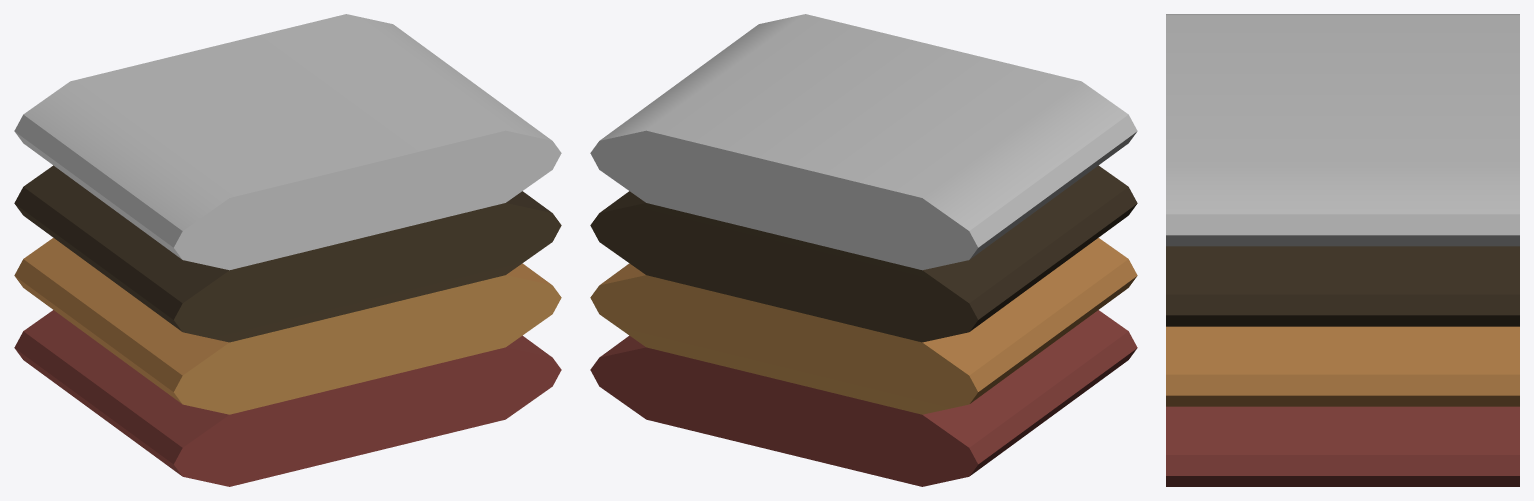
File: Cloth2.fbx
3 views of the same model, side by side, from view 1: azimuth 30°, elevation 25°; view 2: azimuth 150°, elevation 25°; view 3: azimuth 270°, elevation 25° (orthographic). The views are drawn at different scales.
Parts seen in each view (by area): view 1: Cloth2; view 2: Cloth2; view 3: Cloth2.
Boxes of the visible parts, x1=… form: Cloth2: x1=14, y1=14, x2=561, y2=486; Cloth2: x1=590, y1=14, x2=1137, y2=486; Cloth2: x1=1166, y1=14, x2=1519, y2=486.
Bounding box in the file's own units: 0.8171 × 0.5815 × 0.5815.
1 material, 1 textured.
